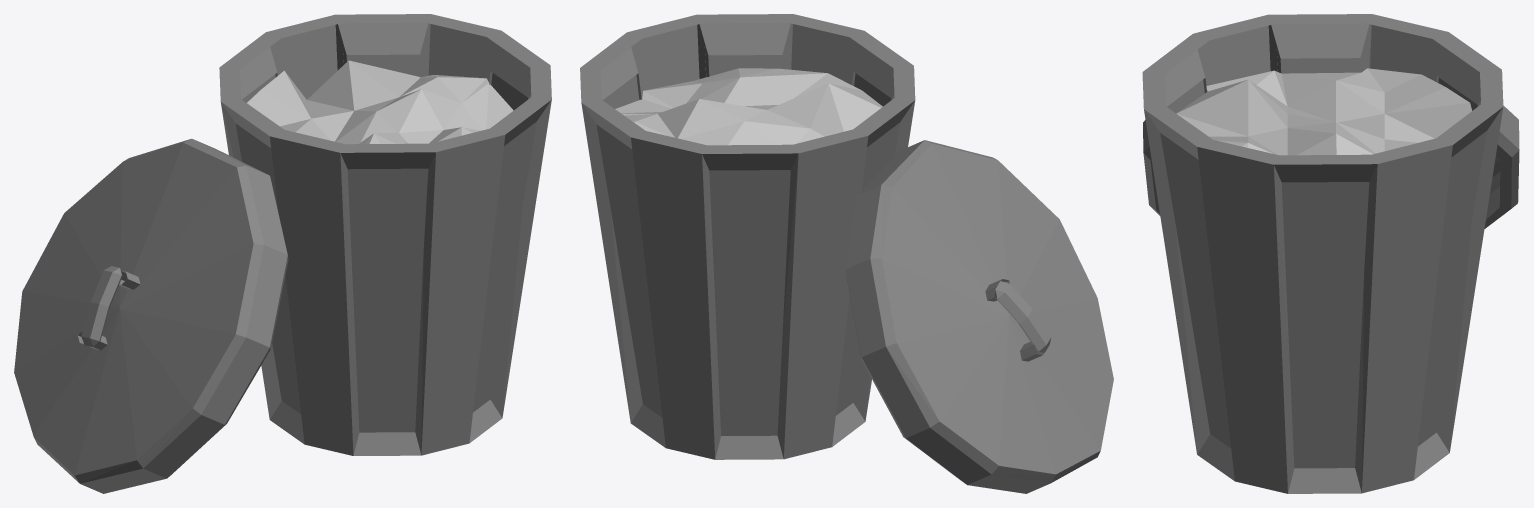
File: TrashEscenario2.fbx
3 renders of one model, left to right at view 1: azimuth 30°, elevation 25°; view 2: azimuth 150°, elevation 25°; view 3: azimuth 270°, elevation 25°, orthographic. The views are drawn at different scales.
Parts seen in each view (by area): view 1: Cylinder.596; view 2: Cylinder.596; view 3: Cylinder.596.
Boxes of the visible parts, x1=… form: Cylinder.596: x1=14, y1=14, x2=551, y2=493; Cylinder.596: x1=580, y1=14, x2=1113, y2=493; Cylinder.596: x1=1142, y1=14, x2=1519, y2=493.
Size of the model in its own units: 52.66 by 34.46 by 33.48.
